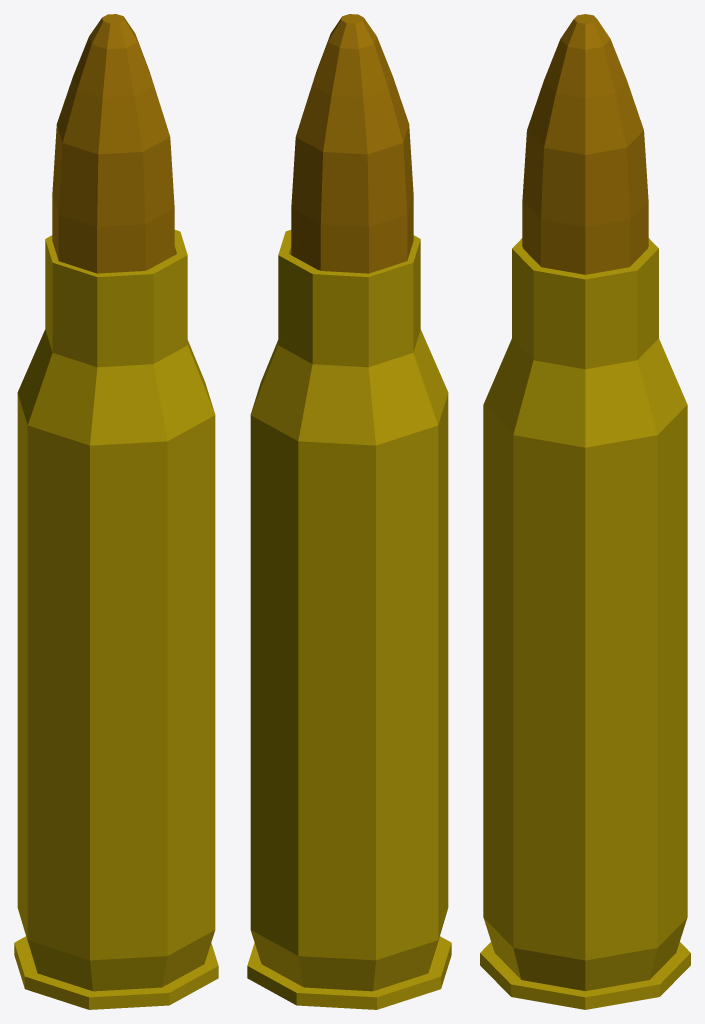
The model's file is Gator Siege_bullet.fbx.
The picture shows the model from 3 angles, left to right: view 1: azimuth 30°, elevation 25°; view 2: azimuth 150°, elevation 25°; view 3: azimuth 270°, elevation 25°; orthographic projection.
Visible parts, largest first — view 1: bullet; view 2: bullet; view 3: bullet.
Part boxes in pixels (x1,y1,x2,y2): bullet: [14, 14, 218, 1009]; bullet: [247, 14, 451, 1009]; bullet: [480, 14, 690, 1009].
Size of the model in its own units: 0.00489 by 0.00489 by 0.0242.
